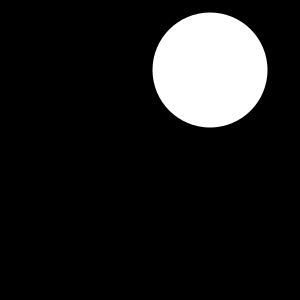rectangle: (152, 12, 268, 128)
